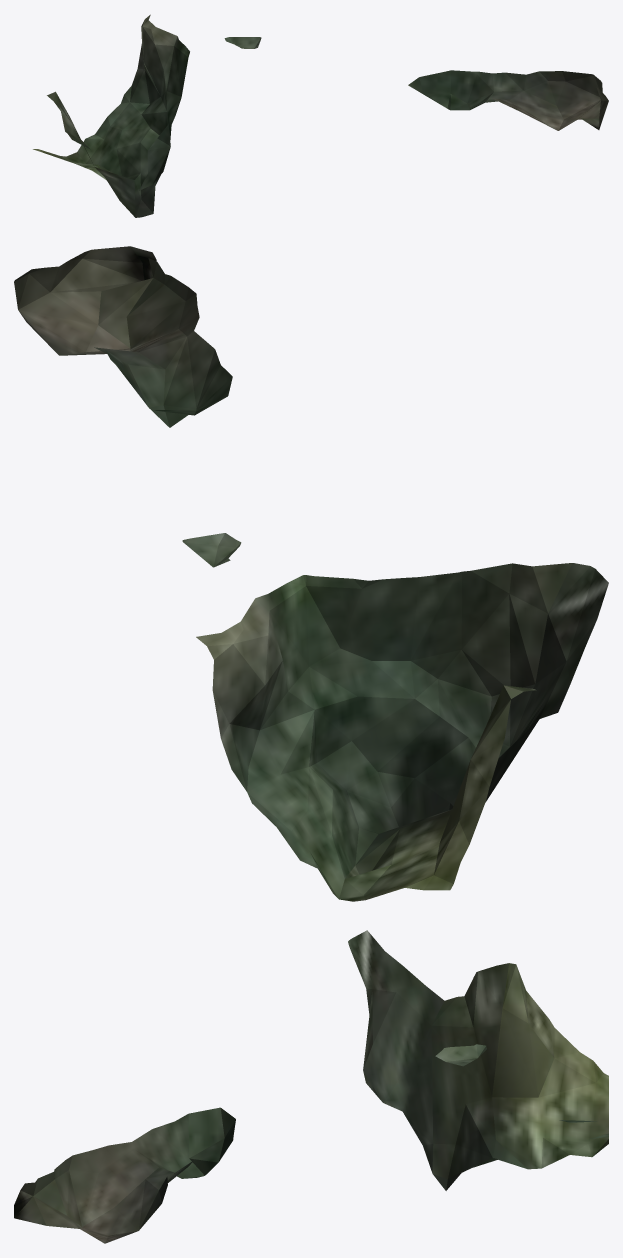
3 renders of one model, top to bottom at view 1: azimuth 30°, elevation 25°; view 2: azimuth 150°, elevation 25°; view 3: azimuth 270°, elevation 25°, orthographic. The views are drawn at different scales.
Size of the model in its own units: 6.7 by 2.25 by 5.94.
Materials: 1 (1 with a texture image).
